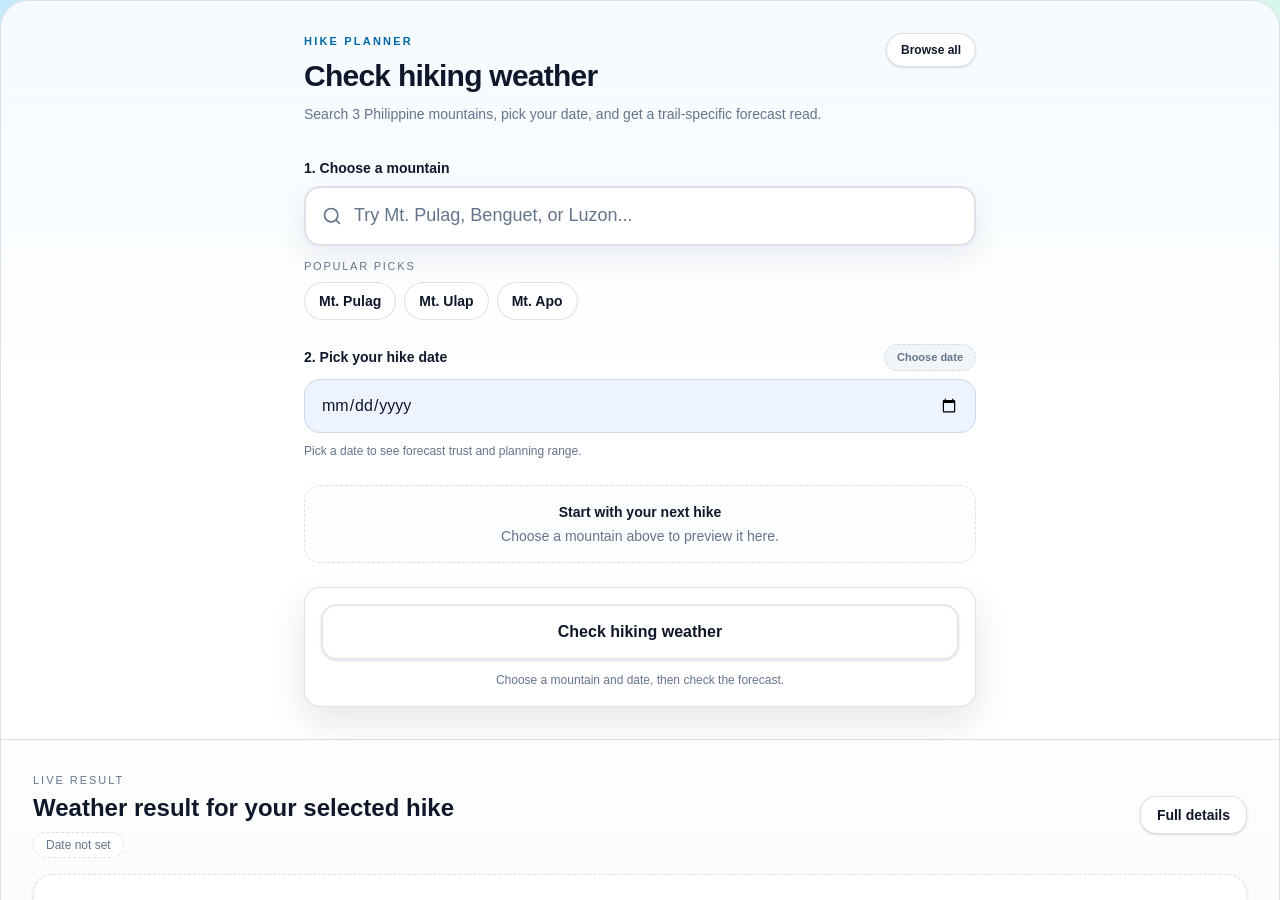
it: HomePlannerClient › updates the selected mountain when clicking an option from the dropdown
Focus the dropdown named "Search mountains" at (656, 216), box x1=354 y1=188 x2=958 y2=244
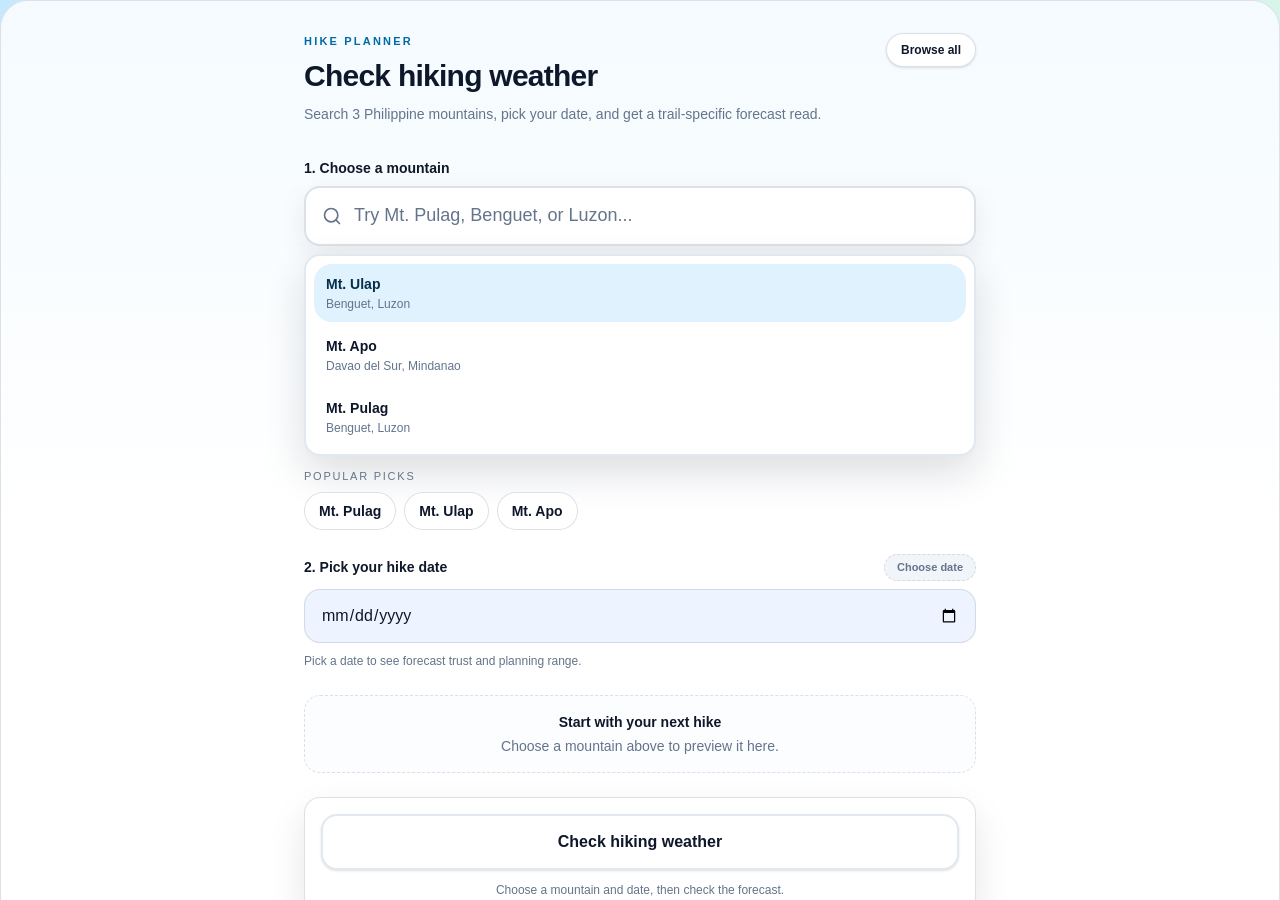
Result: the option "Mt. Apo Davao del Sur, Mindanao" is shown
Click the option "Mt. Apo Davao del Sur, Mindanao" at (351, 346), box x1=314 y1=326 x2=966 y2=384
(page scrolled)
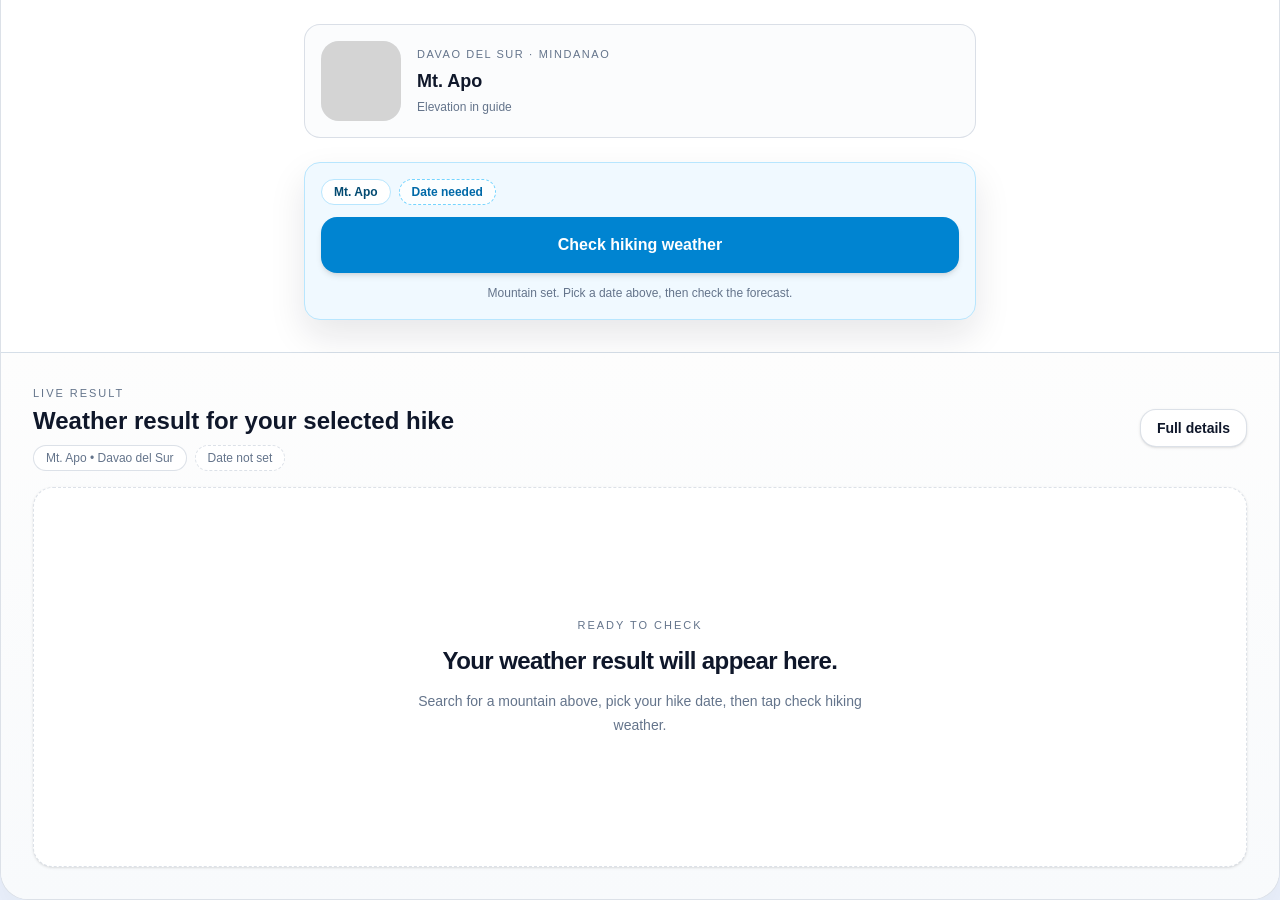
Result: the text "Mt. Apo • Davao del Sur" is shown at x1=33 y1=445 x2=187 y2=471
